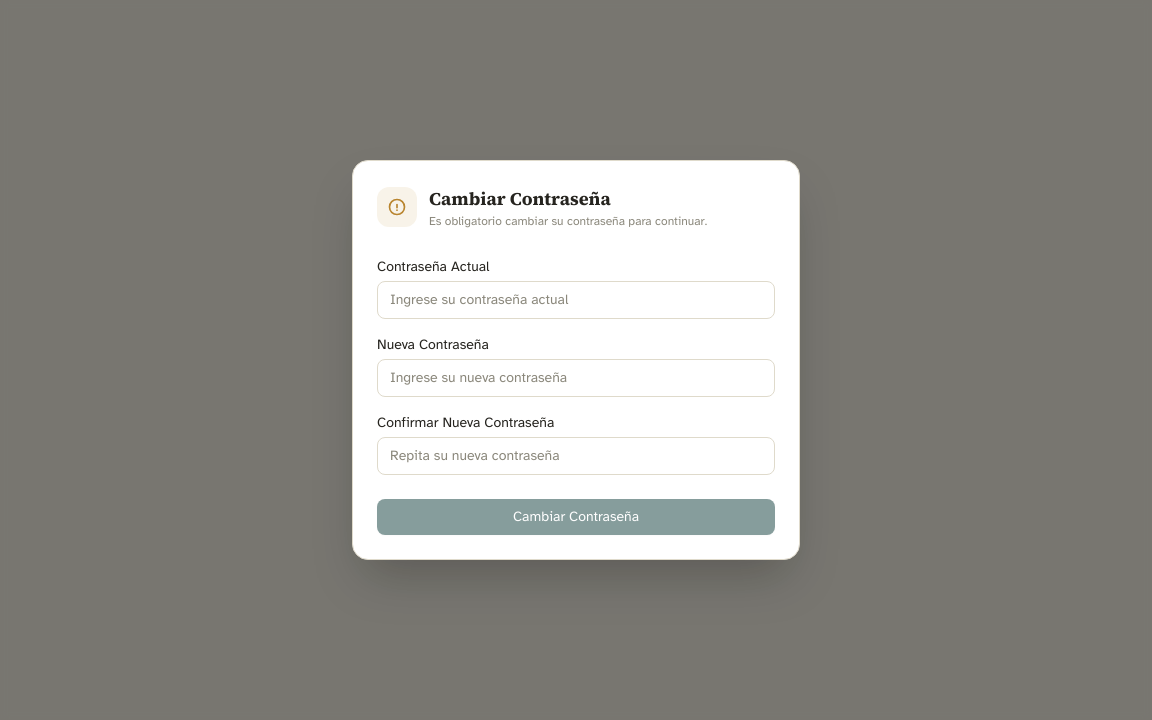
Test case: formulario de cambio › bloquea el botón mientras se procesa la petición
The width and height of the screenshot is (1152, 720).
Type "anterior" into the password field labelled "Contraseña Actual" at (576, 300), box [377,281,775,319]
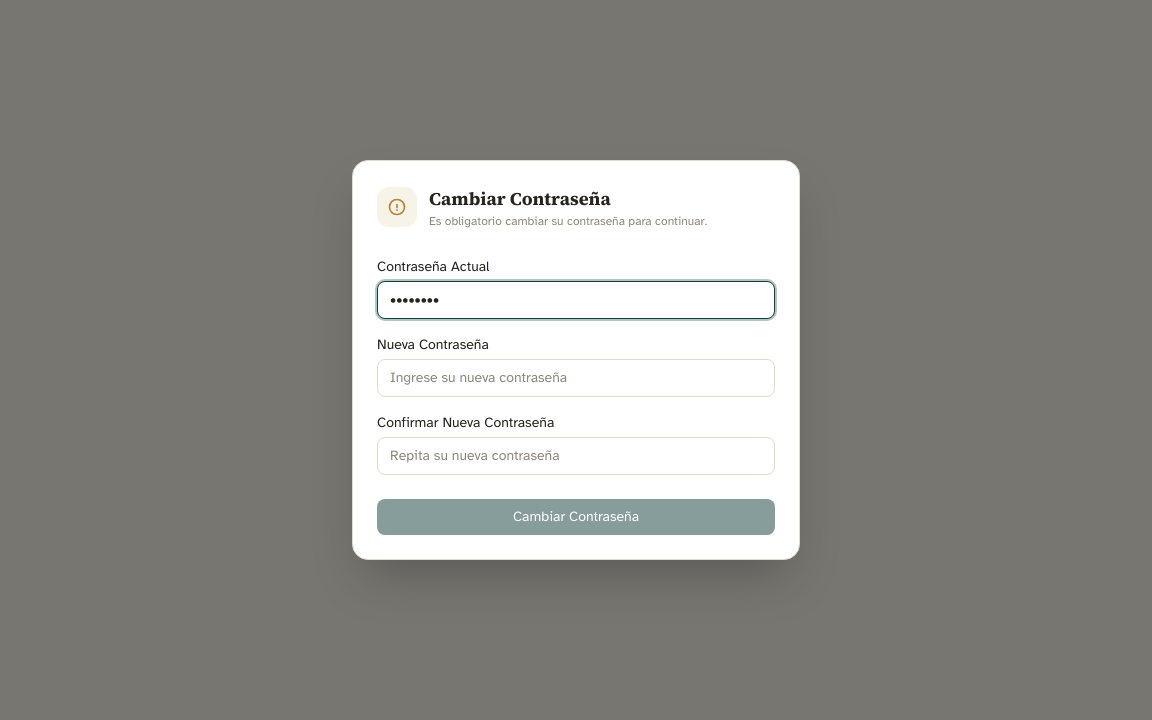
Type "NuevaClave123*" into the password field labelled "Nueva Contraseña" at (576, 378), box [377,359,775,397]
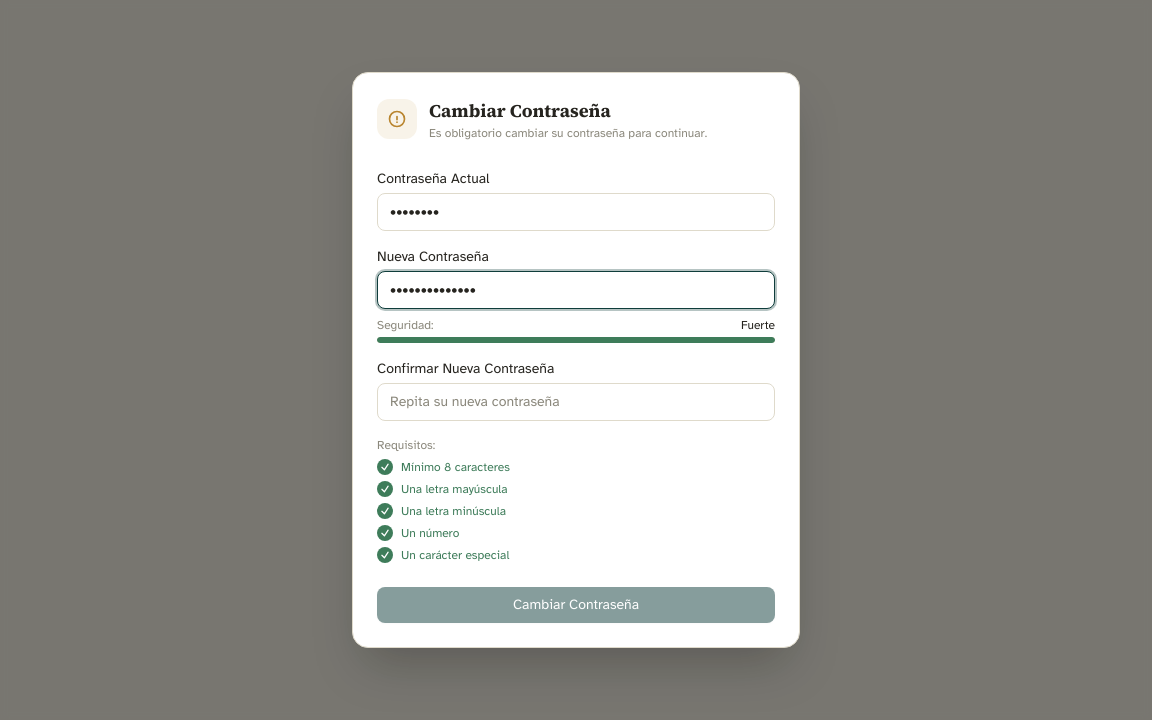
Type "NuevaClave123*" into the password field labelled "Confirmar Nueva Contraseña" at (576, 402), box [377,383,775,421]
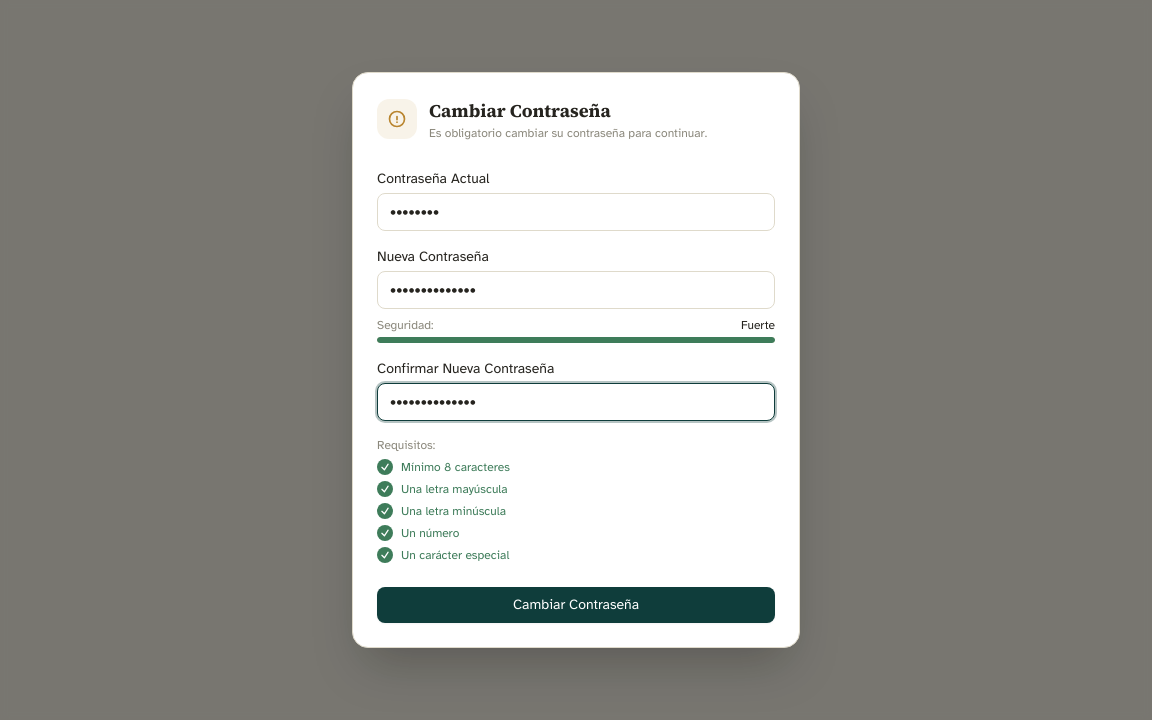
Click the button "Cambiar Contraseña" at (576, 605), box [377,587,775,623]
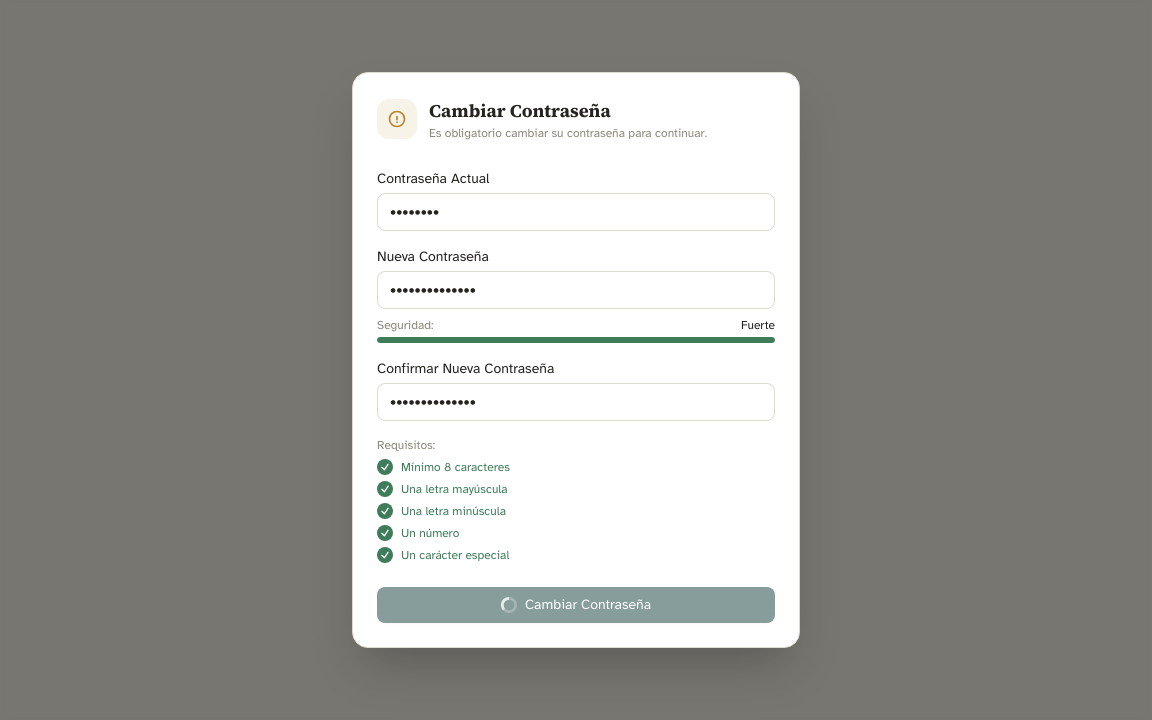
Expected: the button "Cambiar Contraseña" is disabled, [377,587,775,623]
